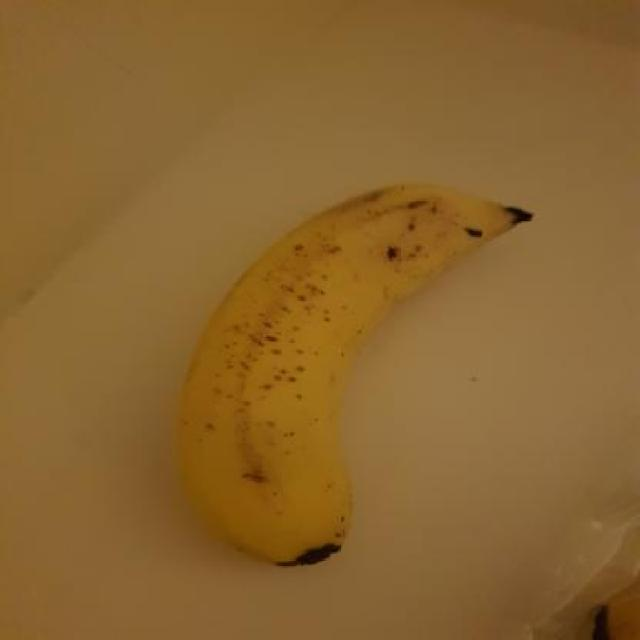Banana: (159, 172, 544, 572)
